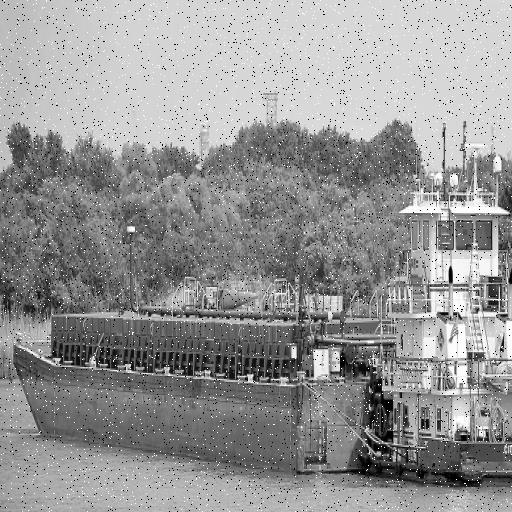tugboat: (348, 116, 512, 500)
